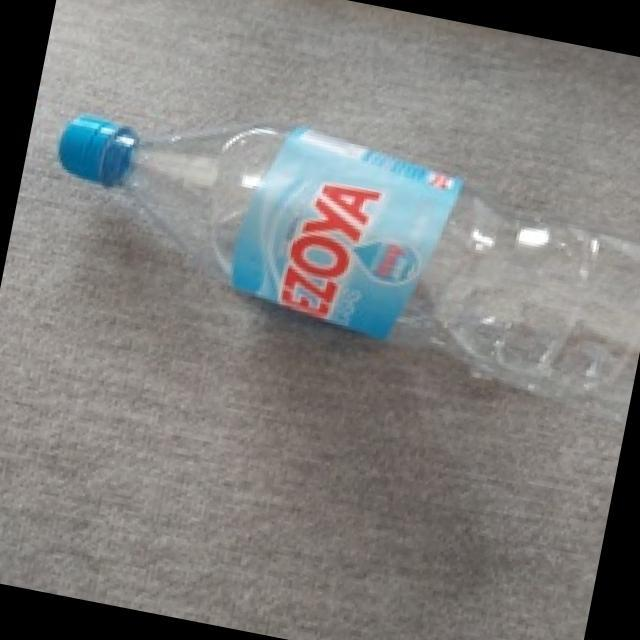good: (21, 48, 640, 394)
